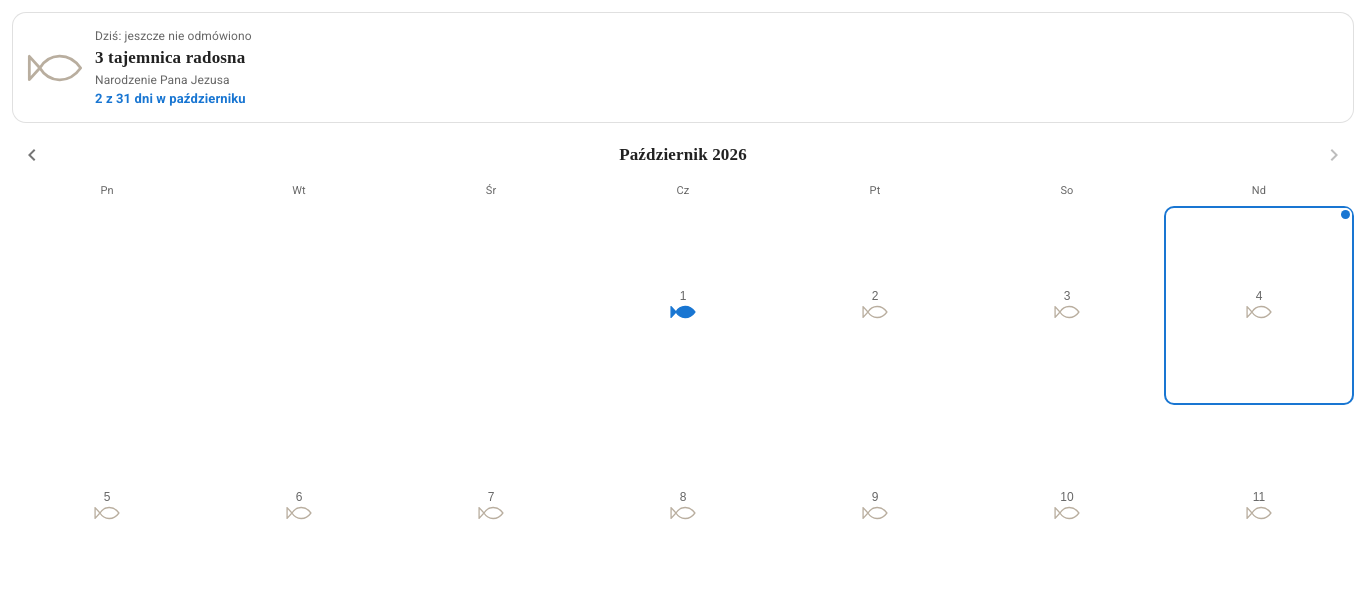
Test case: RoseCalendarTab › previous month navigation and disabled next on current month
expect the button named "Następny miesiąc" is disabled: met, box [1314,135,1354,175]
Click the button named "Poprzedni miesiąc".
click(32, 155)  # box [12,135,52,175]
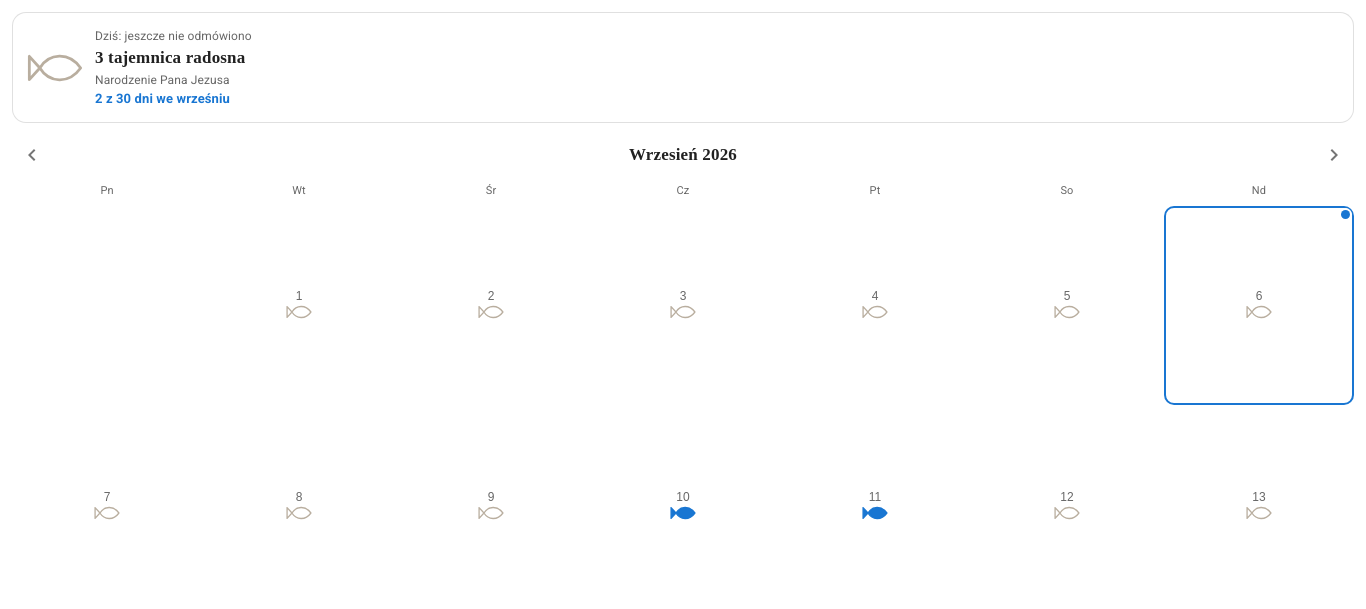
expect the element with test id "rose-calendar-header" reads "Wrzesień 2026": met, box [629,145,737,164]
expect the button named "Następny miesiąc" is enabled: met
expect the text with test id "rose-calendar-counter" reads "2 z 30 dni we wrześniu": met, box [95,90,230,106]
Click the button named "Następny miesiąc".
click(1334, 155)  # box [1314,135,1354,175]
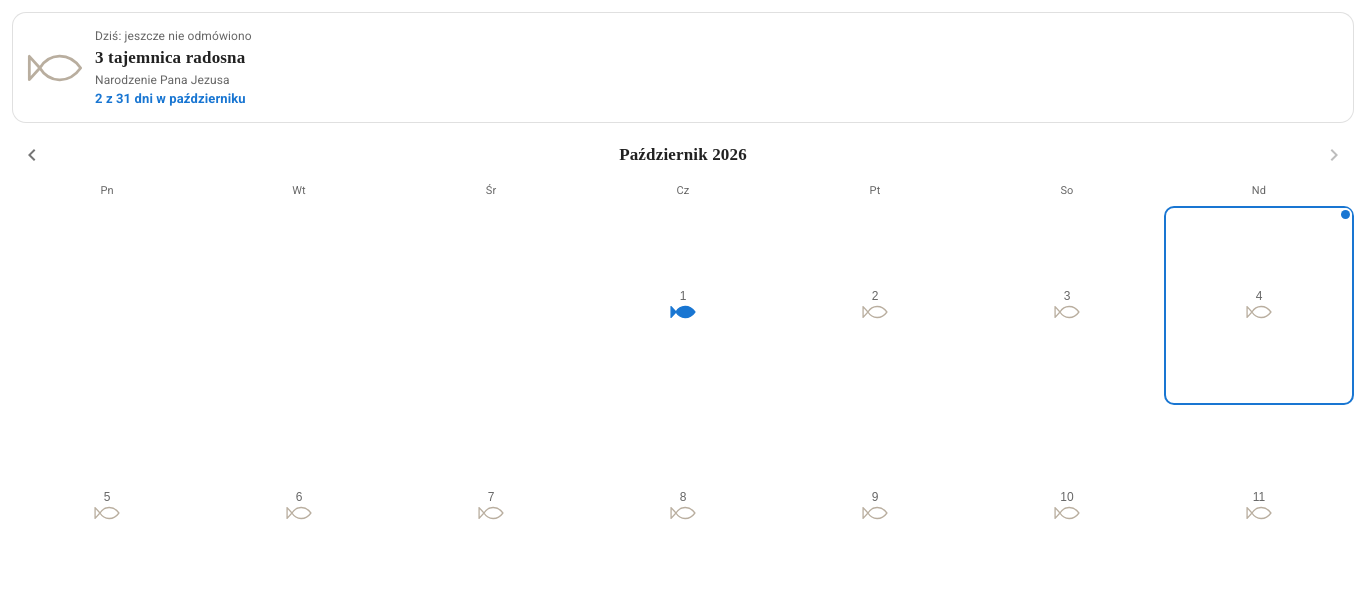
expect the element with test id "rose-calendar-header" reads "Październik 2026": met, box [619,145,747,164]
expect the button named "Następny miesiąc" is disabled: met, box [1314,135,1354,175]
